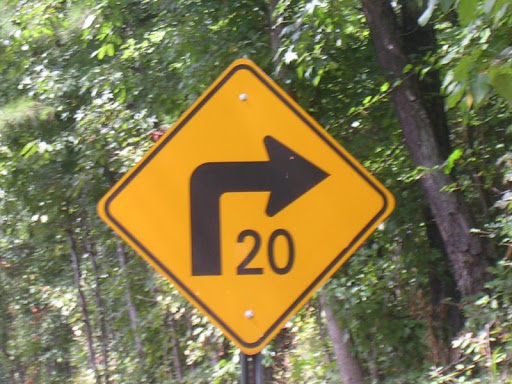right: (93, 55, 397, 357)
